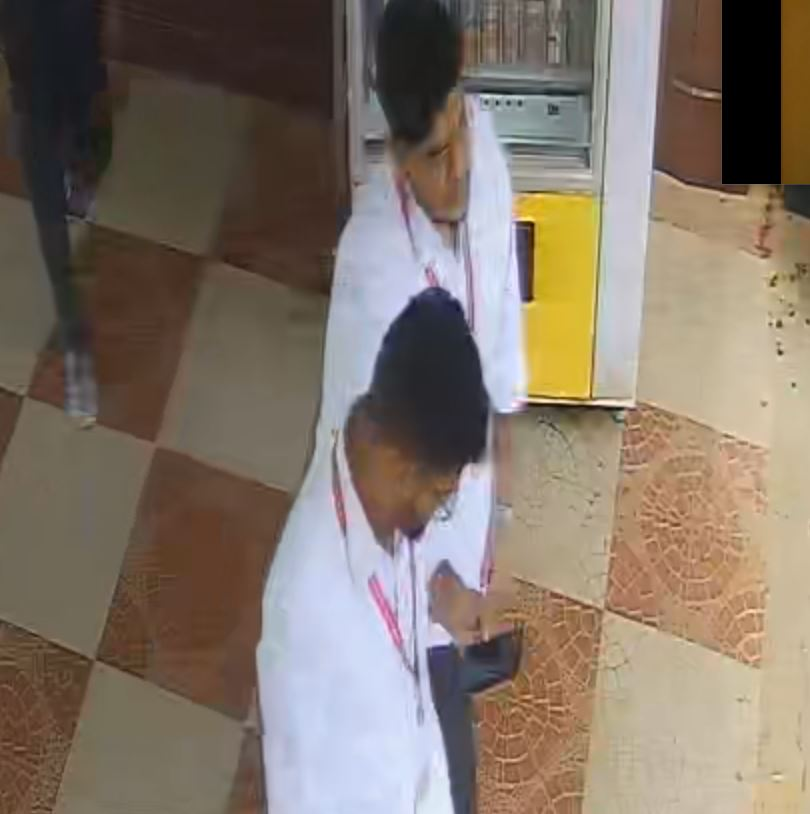not intruder: (258, 289, 486, 814), (320, 1, 515, 578)
